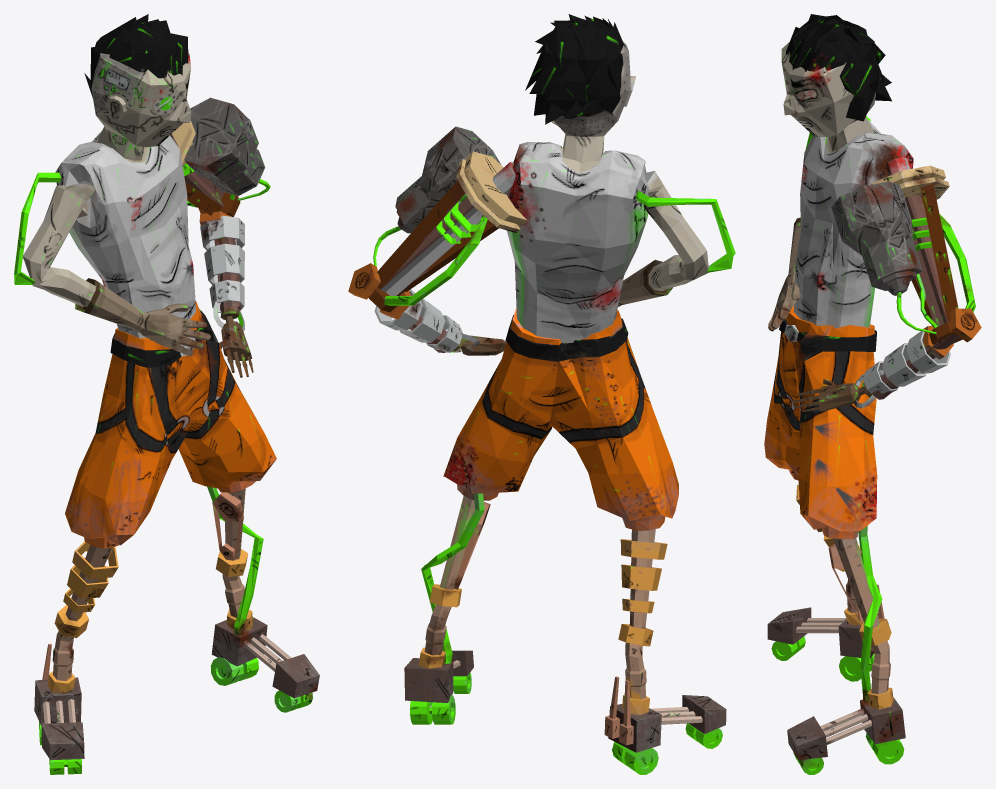
File: CyborgFINALAnimation_000005.obj
The picture shows the model from 3 angles, left to right: view 1: azimuth 30°, elevation 25°; view 2: azimuth 150°, elevation 25°; view 3: azimuth 270°, elevation 25°; orthographic projection. The views are drawn at different scales.
Parts seen in each view (by area): view 1: CyborgMesh_Cube.002; view 2: CyborgMesh_Cube.002; view 3: CyborgMesh_Cube.002.
Part boxes in pixels (x1,y1,x2,y2): CyborgMesh_Cube.002: [14, 14, 319, 774]; CyborgMesh_Cube.002: [348, 14, 735, 774]; CyborgMesh_Cube.002: [764, 14, 981, 774].
Bounding box in the file's own units: 4.26 × 9.59 × 2.74.
